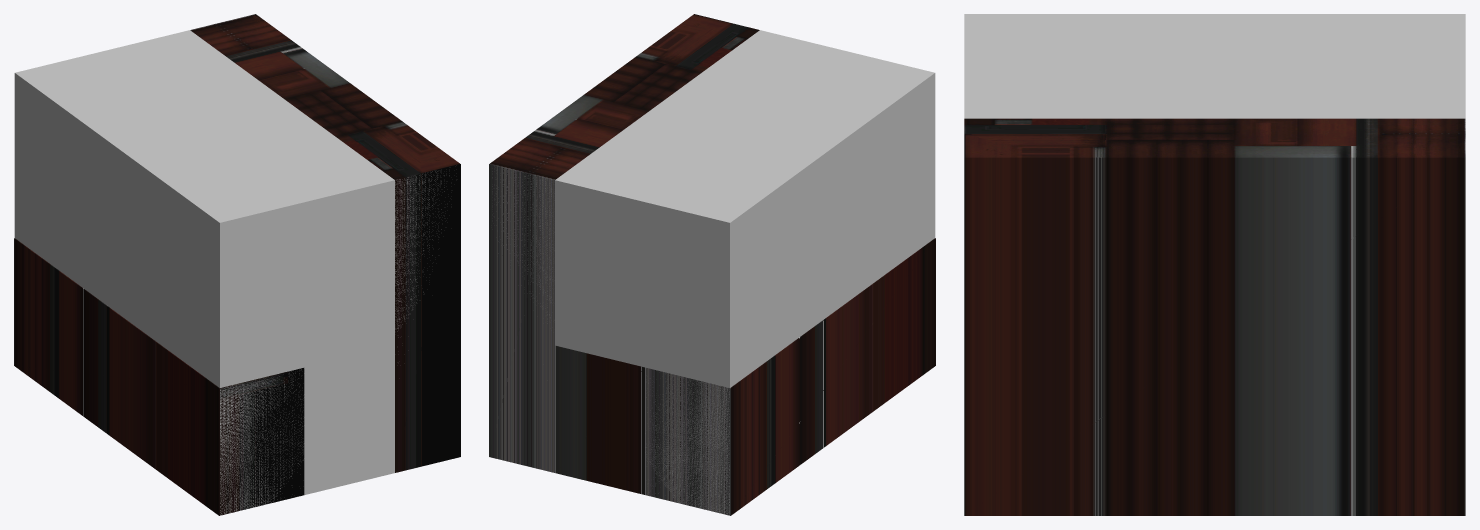
The model's file is bar.DAE.
3 renders of one model, left to right at view 1: azimuth 30°, elevation 25°; view 2: azimuth 150°, elevation 25°; view 3: azimuth 270°, elevation 25°, orthographic. The views are drawn at different scales.
Parts seen in each view (by area): view 1: bounds, colbox-2, colbox-1, bar100; view 2: bounds, colbox-2, colbox-1, colbox-3; view 3: colbox-1, bounds.
Part boxes in pixels (x1=…): bounds: x1=14, y1=30, x2=449, y2=515; colbox-2: x1=14, y1=238, x2=304, y2=515; colbox-1: x1=190, y1=14, x2=460, y2=472; bar100: x1=220, y1=15, x2=287, y2=399; bounds: x1=492, y1=30, x2=935, y2=515; colbox-2: x1=645, y1=238, x2=935, y2=515; colbox-1: x1=489, y1=14, x2=759, y2=472; colbox-3: x1=555, y1=346, x2=644, y2=494; colbox-1: x1=964, y1=118, x2=1465, y2=515; bounds: x1=964, y1=14, x2=1465, y2=118.
Bounding box in the file's own units: 251 × 369 × 291.
